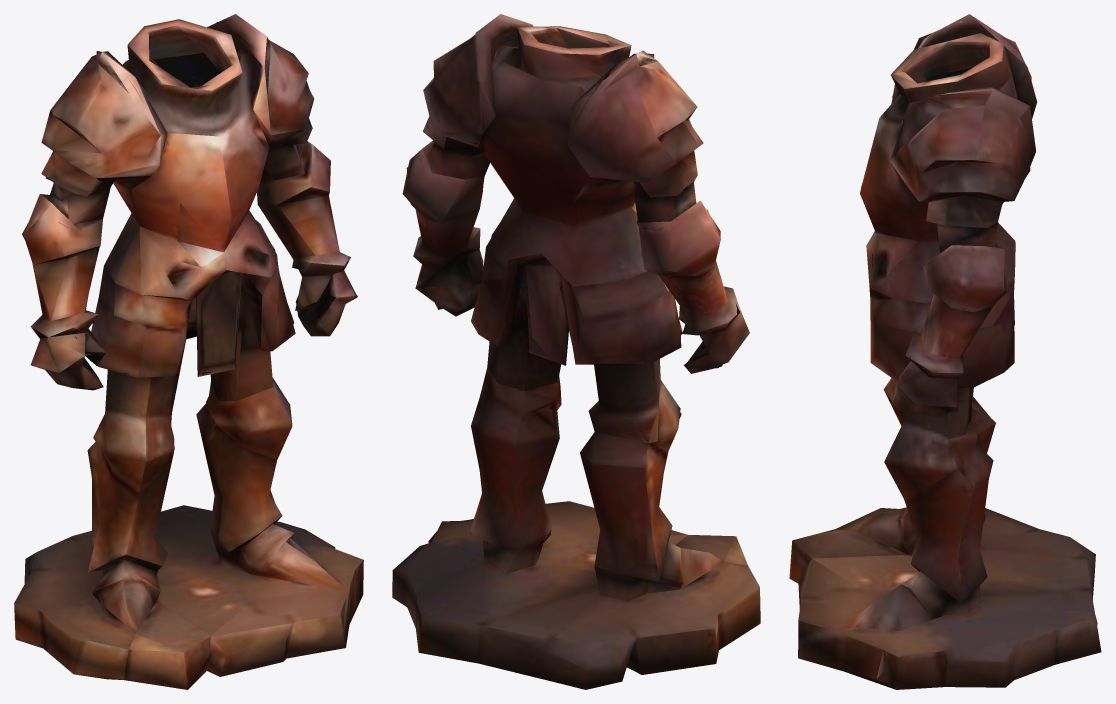
The model's file is lg-knight-statue-empty.glb.
3 renders of one model, left to right at view 1: azimuth 30°, elevation 25°; view 2: azimuth 150°, elevation 25°; view 3: azimuth 270°, elevation 25°, orthographic. The views are drawn at different scales.
Parts seen in each view (by area): view 1: geometry_0; view 2: geometry_0; view 3: geometry_0.
Boxes of the visible parts, box(x1,y1,x2,y2) form: geometry_0: box(14, 14, 363, 689); geometry_0: box(392, 14, 760, 689); geometry_0: box(789, 14, 1101, 689).
Size of the model in its own units: 0.5727 by 1 by 0.497.
Materials: 1 (1 with a texture image).
